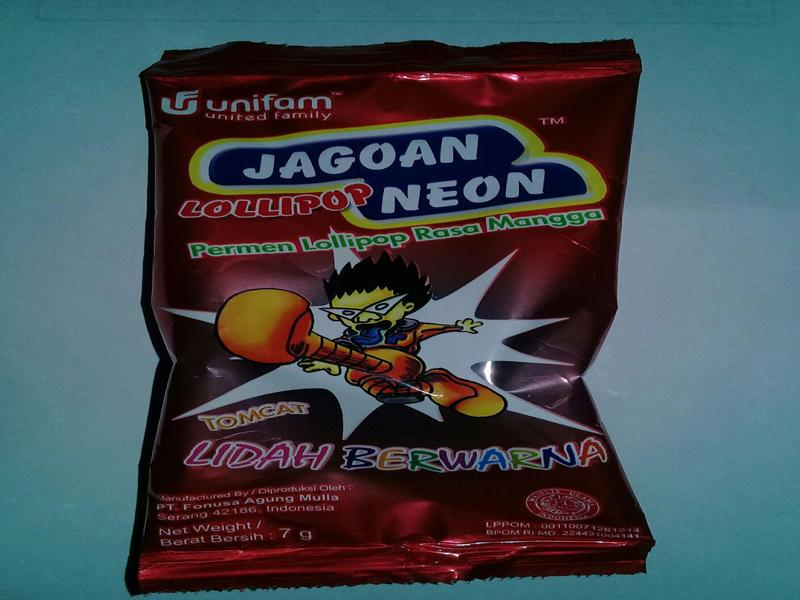jagoan_neon: (137, 41, 657, 576)
